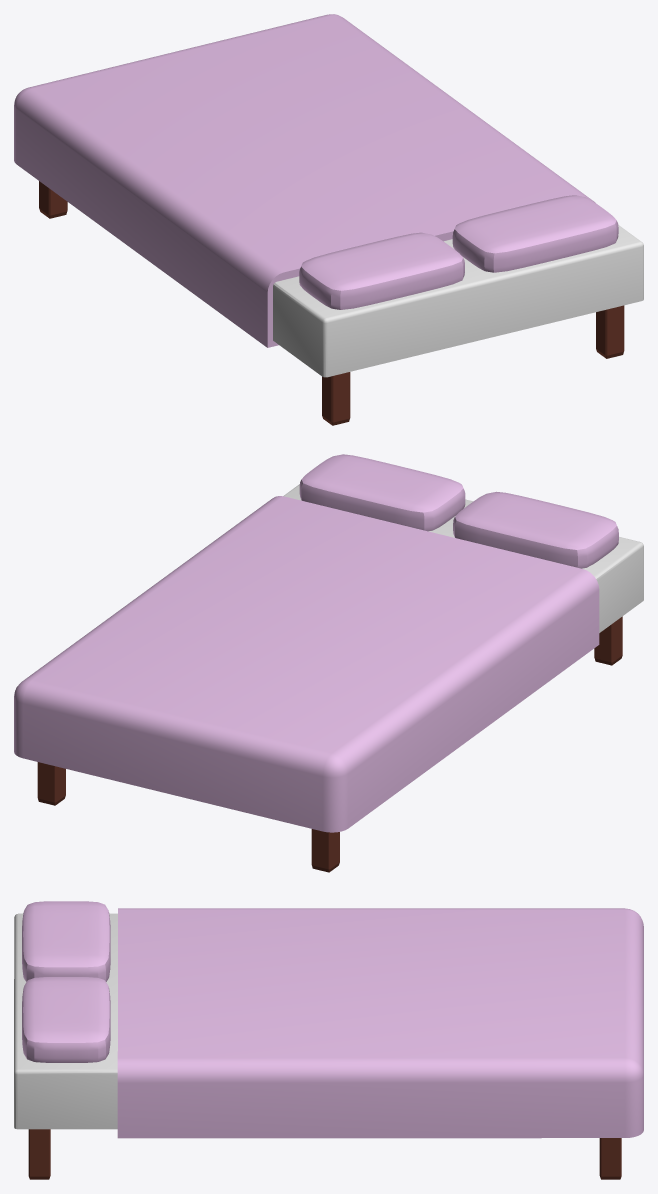
Rendered from Bed.fbx.
The picture shows the model from 3 angles, top to bottom: view 1: azimuth 30°, elevation 25°; view 2: azimuth 150°, elevation 25°; view 3: azimuth 270°, elevation 25°; orthographic projection.
Visible parts, largest first — view 1: Cube, Cube.002; view 2: Cube, Cube.002; view 3: Cube, Cube.002.
Boxes of the visible parts, x1=… form: Cube: x1=14, y1=14, x2=643, y2=425; Cube.002: x1=299, y1=195, x2=618, y2=309; Cube: x1=14, y1=484, x2=643, y2=872; Cube.002: x1=299, y1=454, x2=618, y2=568; Cube: x1=14, y1=908, x2=643, y2=1179; Cube.002: x1=22, y1=901, x2=110, y2=1062.
Size of the model in its own units: 341 by 136 by 556.
